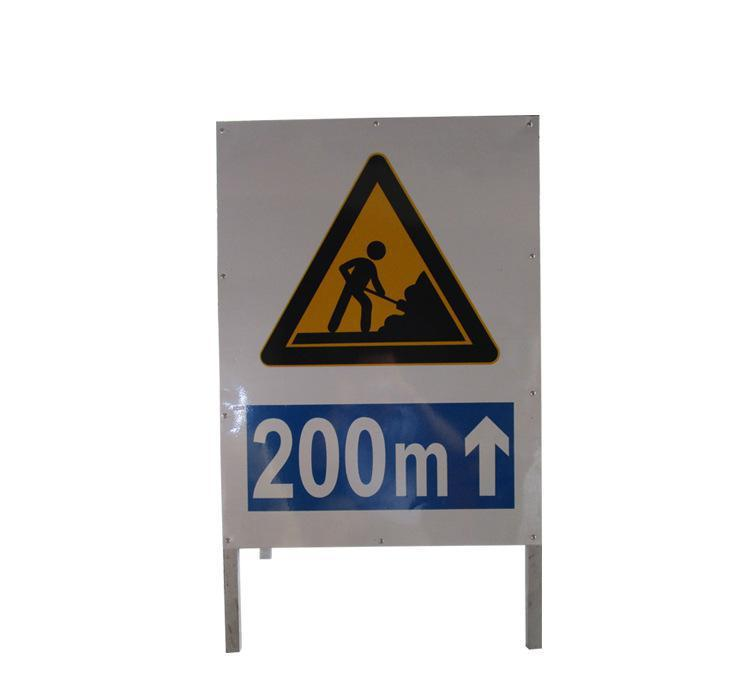sign: (216, 124, 539, 525)
